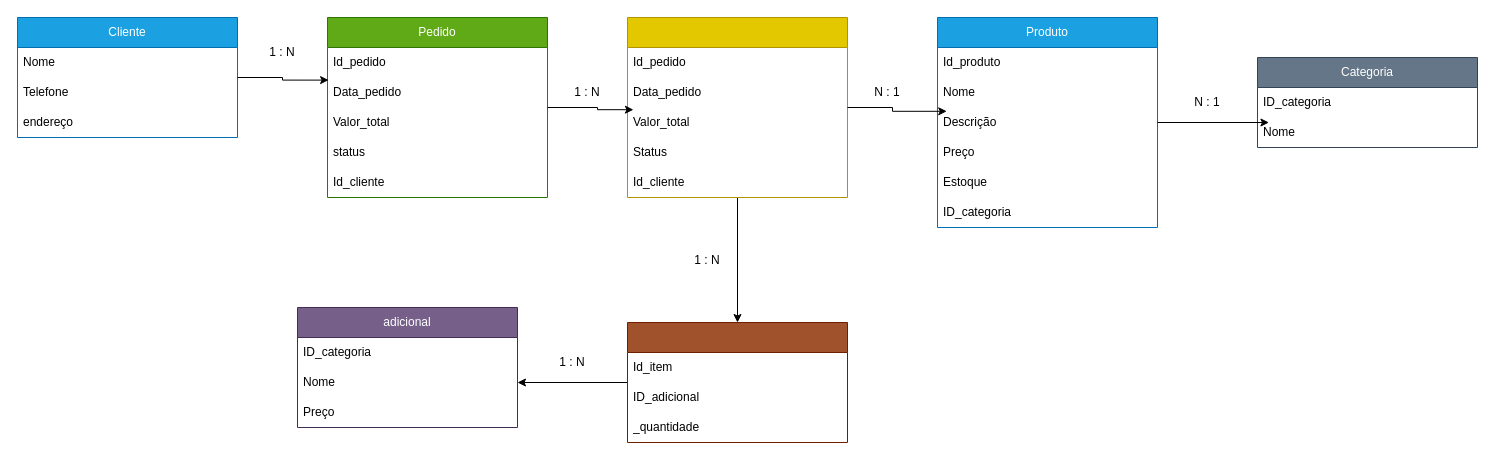
Some shapes in this 1495 by 460 pixel diagram are drawn without their labels. The box of each missing label's shape, as (x1, y1, x2, y2) in pixels:
Item_adicional: (626, 322, 848, 442)
Item_pedido: (626, 16, 848, 198)
